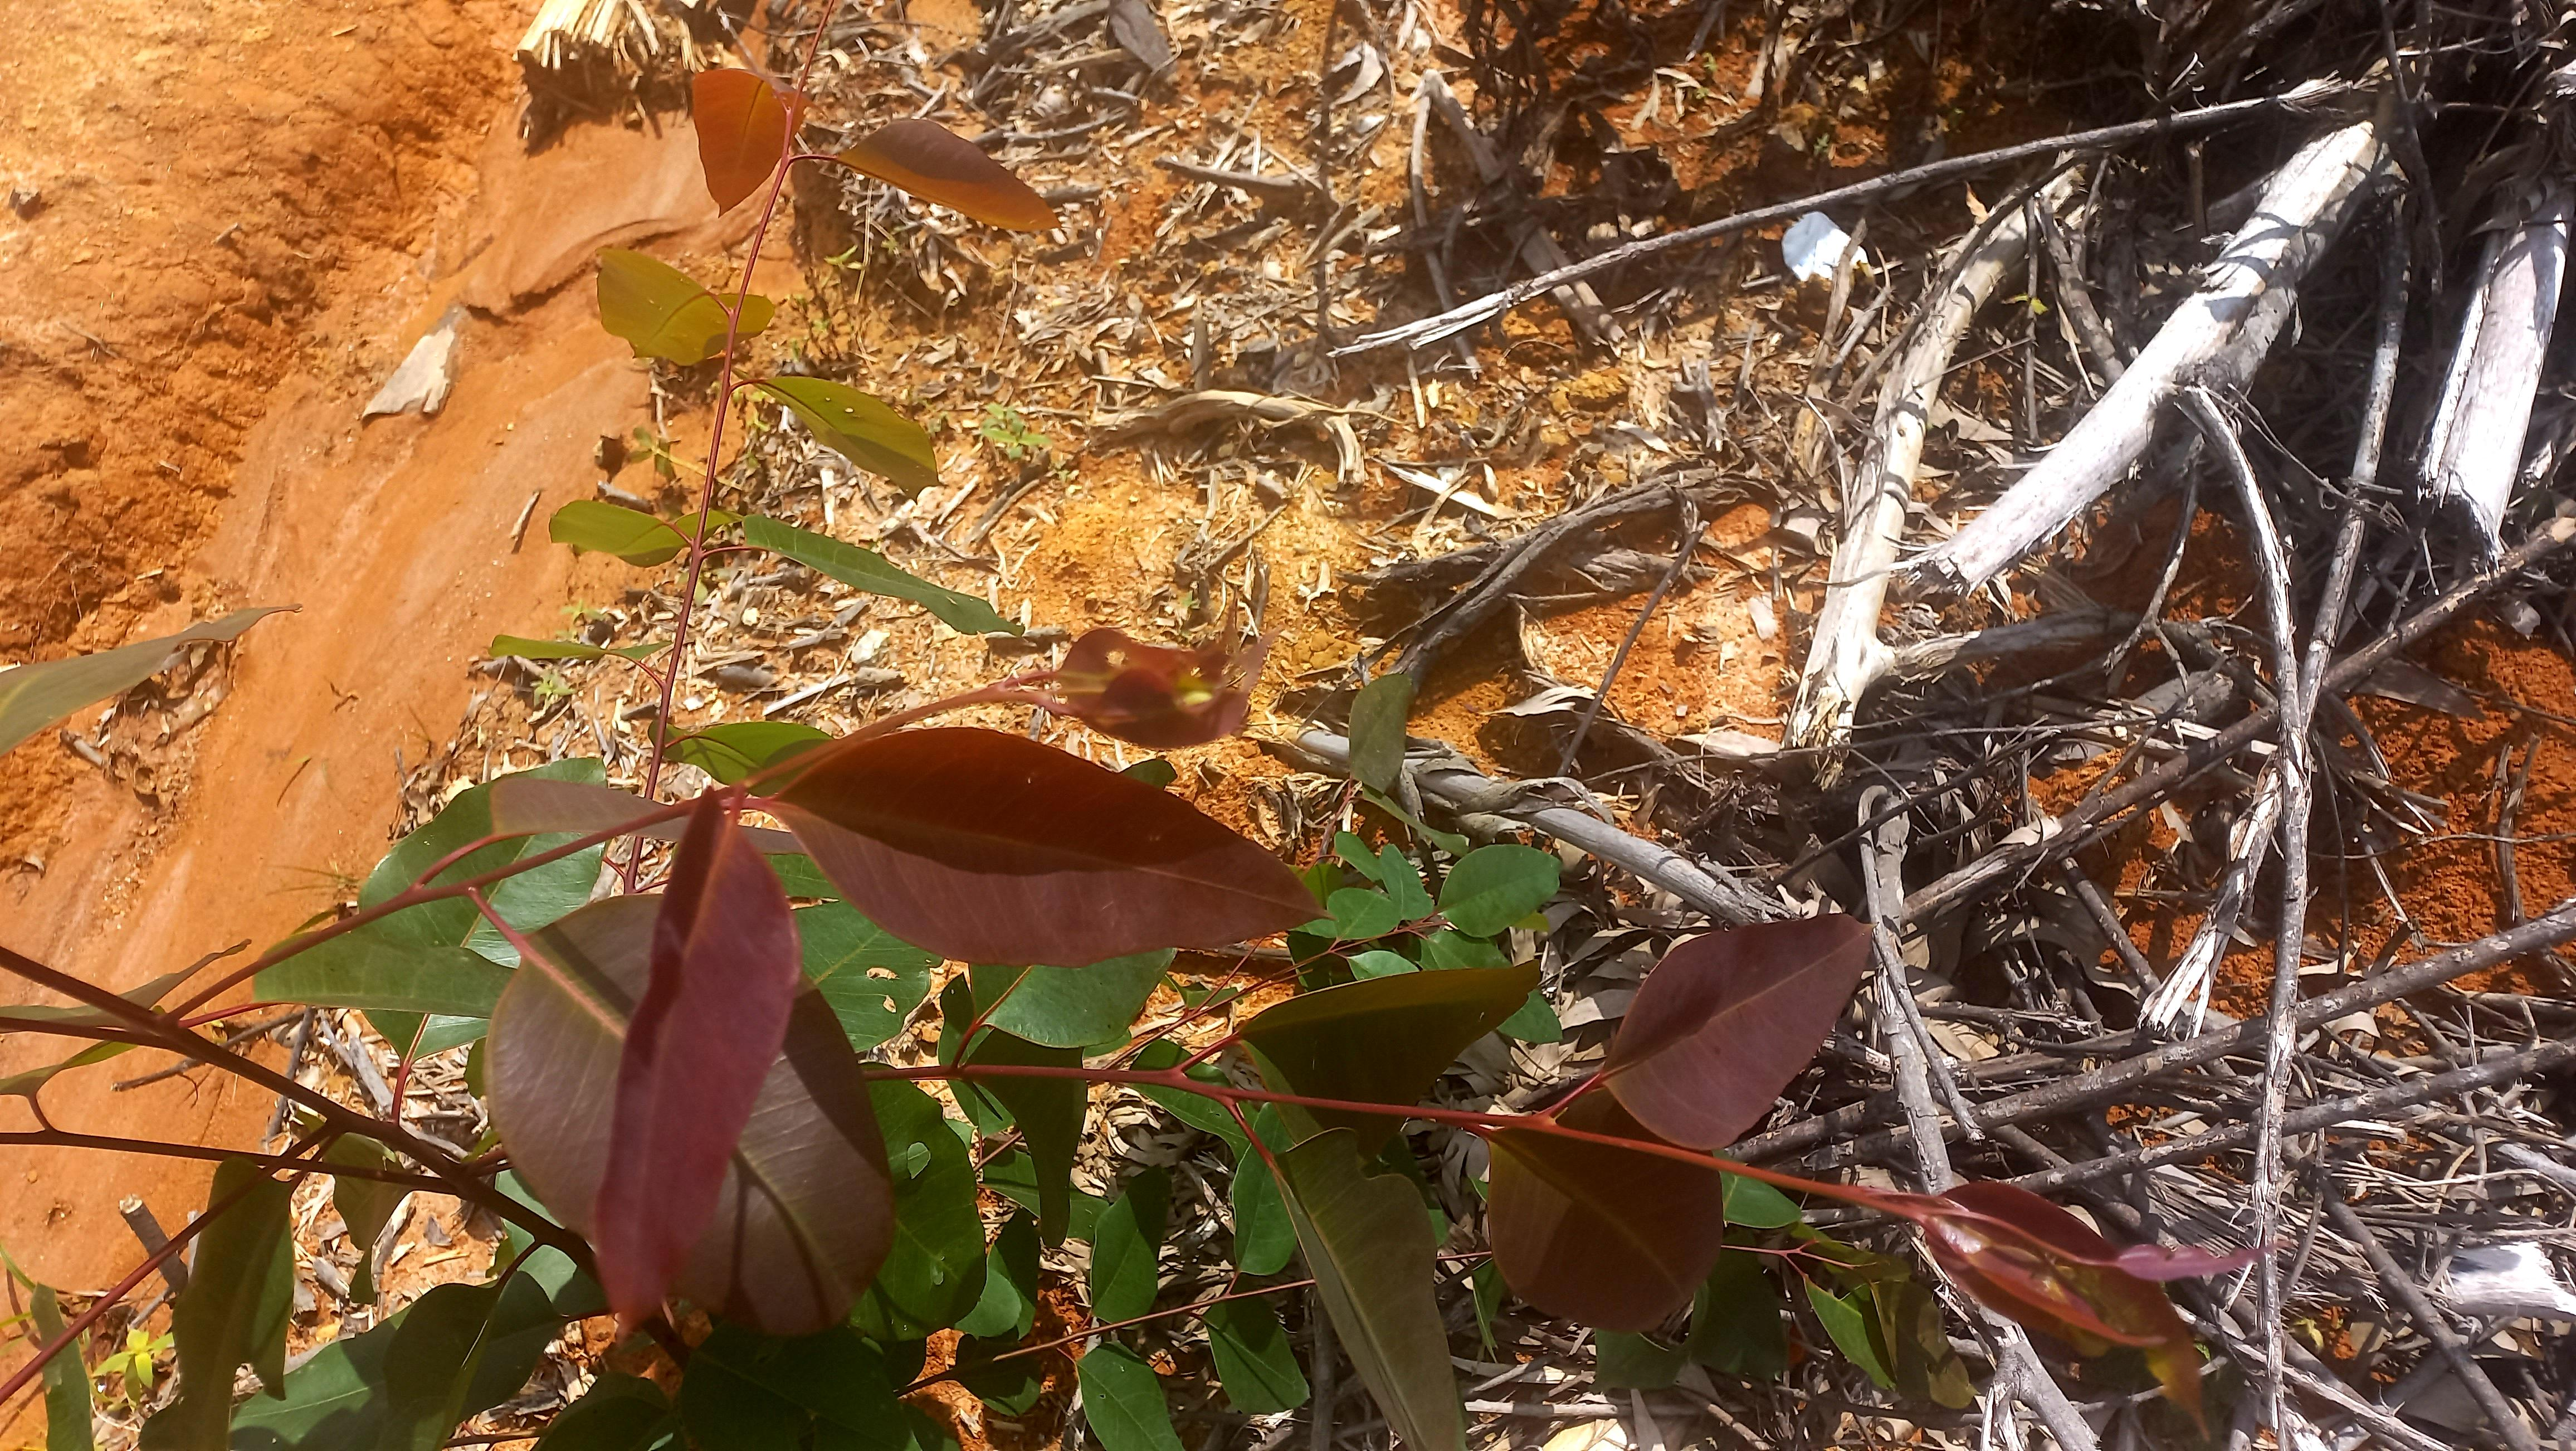Helopeltis-Withered Sprout: (1911, 1161, 2245, 1439), (1051, 603, 1240, 702), (1046, 664, 1249, 745)
